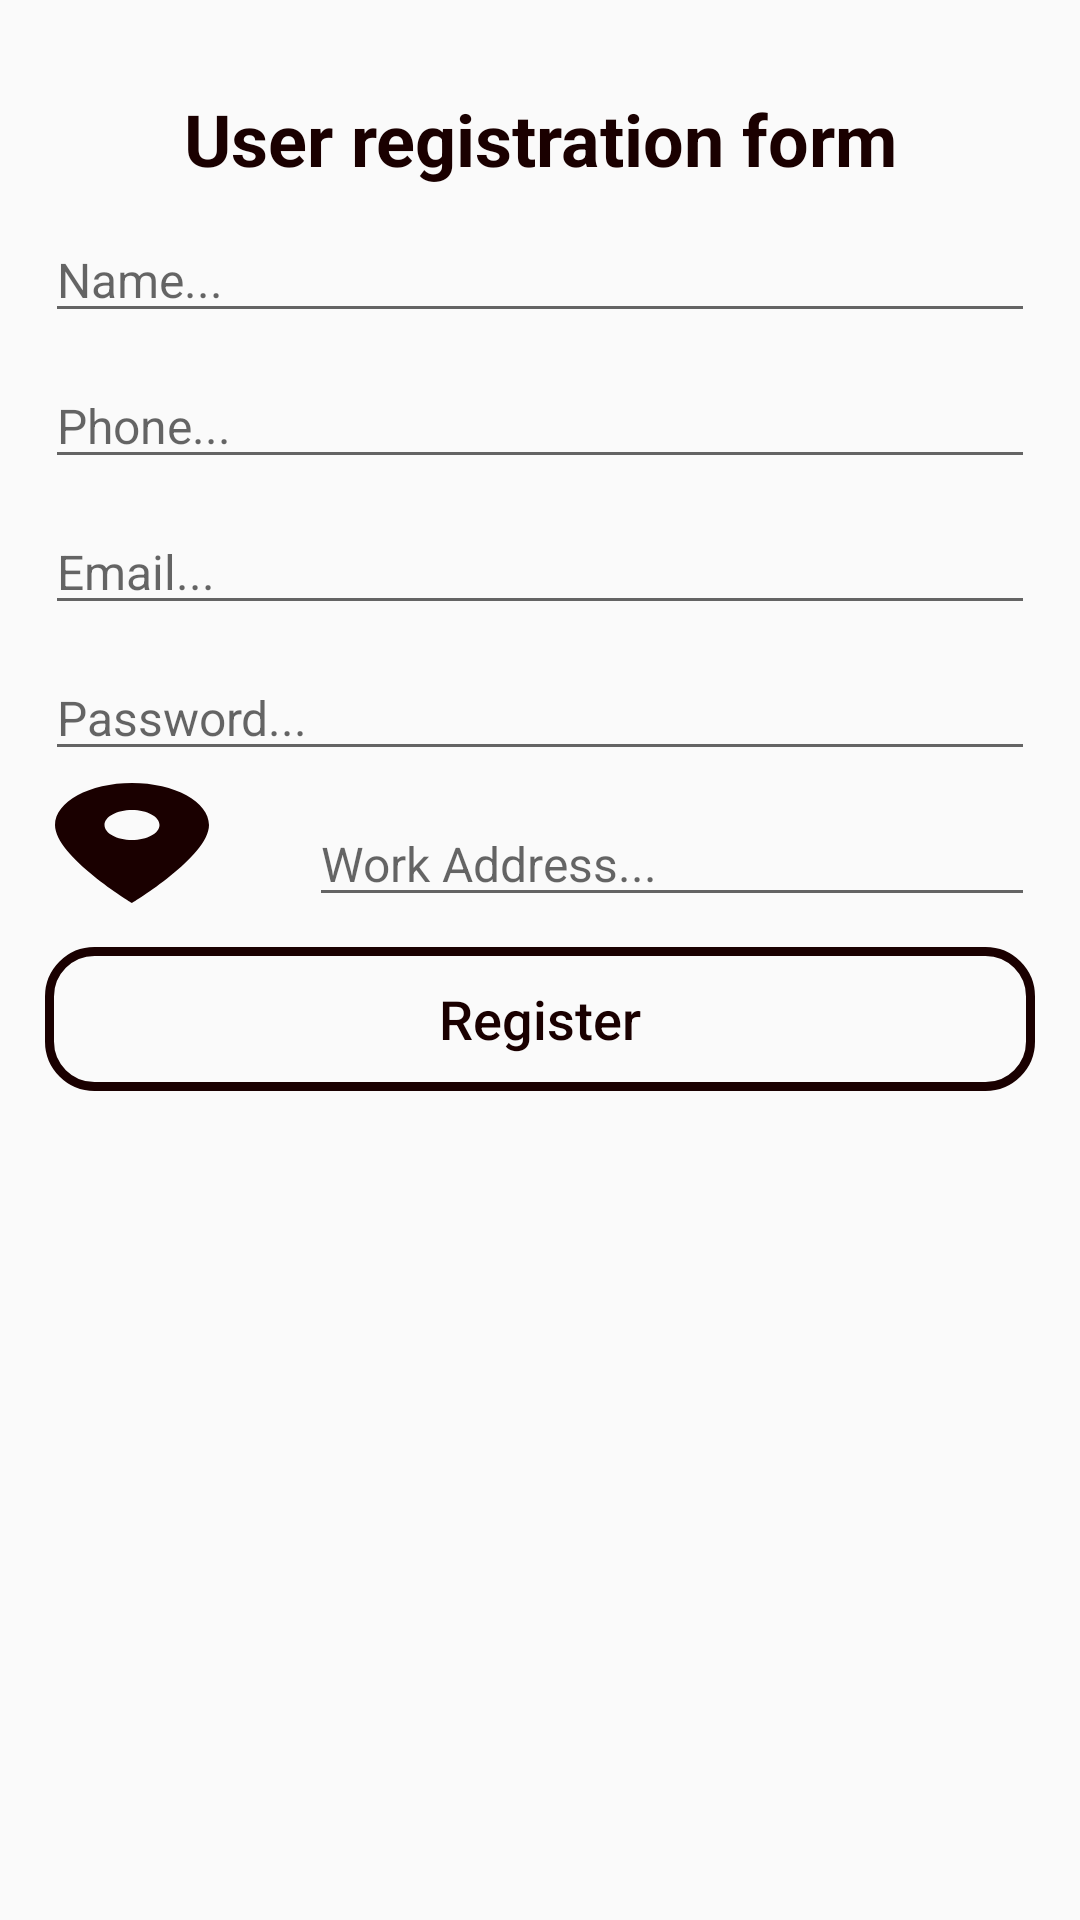

Locate icon controls on the screen. Image size 1080 x 1920, boxes as (x1, y1, x2, y2).
location: (55, 783, 209, 903)
